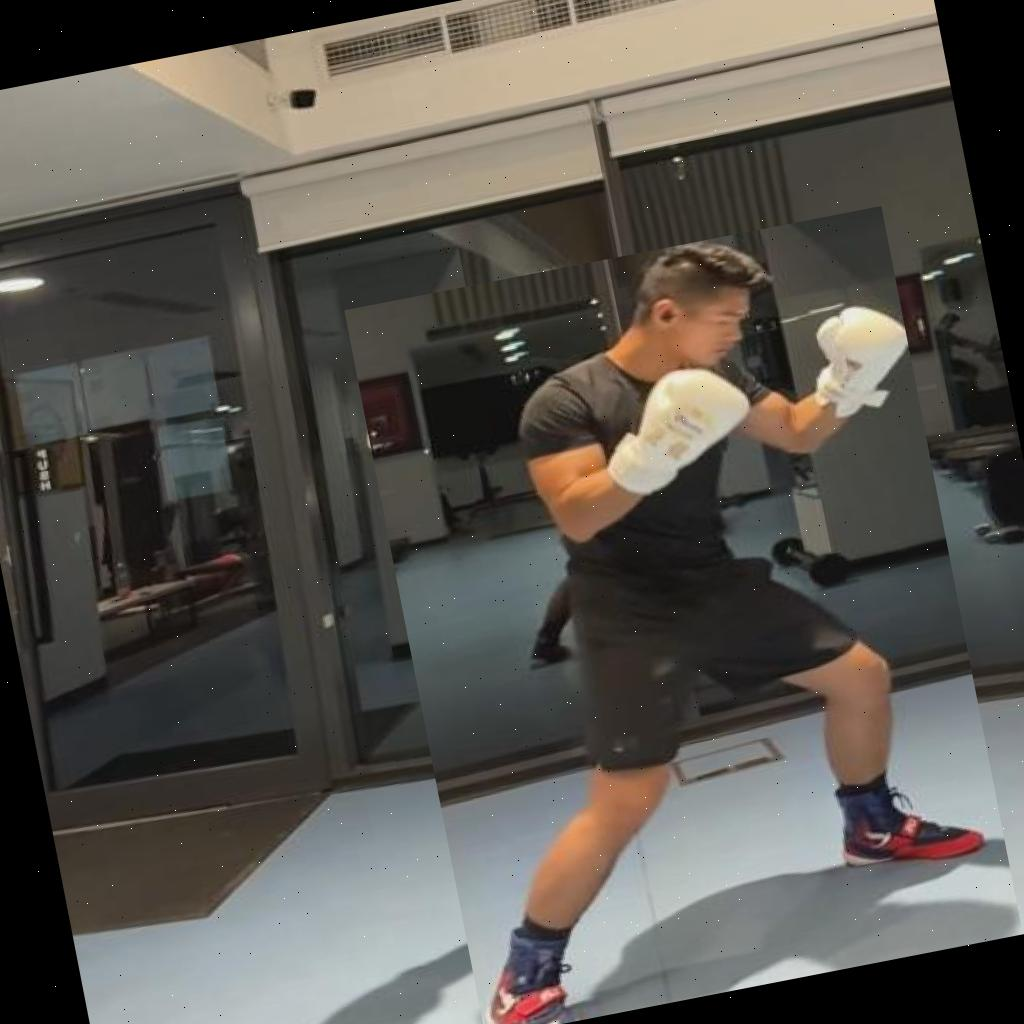no punch: (344, 206, 1023, 1024)
